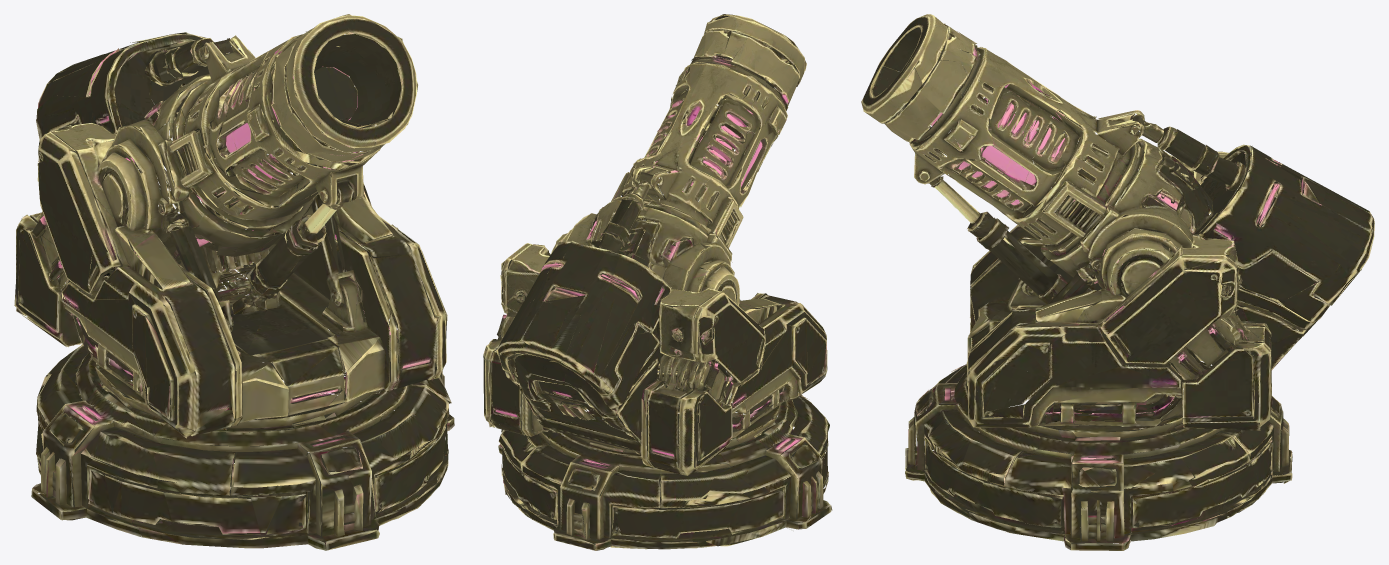
The model's file is tower_plasma_p1_t5.glb.
3 views of the same model, side by side, from view 1: azimuth 30°, elevation 25°; view 2: azimuth 150°, elevation 25°; view 3: azimuth 270°, elevation 25° (orthographic). The views are drawn at different scales.
Visible parts, largest first — view 1: head, base; view 2: head, base; view 3: head, base.
Boxes of the visible parts, x1,y1,x2,y2 form: head: (14,14,447,438); base: (31,300,454,550); head: (483,14,827,475); base: (498,358,832,550); head: (861,14,1374,434); base: (905,347,1292,550).
Size of the model in its own units: 0.8233 by 1.04 by 1.08.
1 material, 1 textured.
